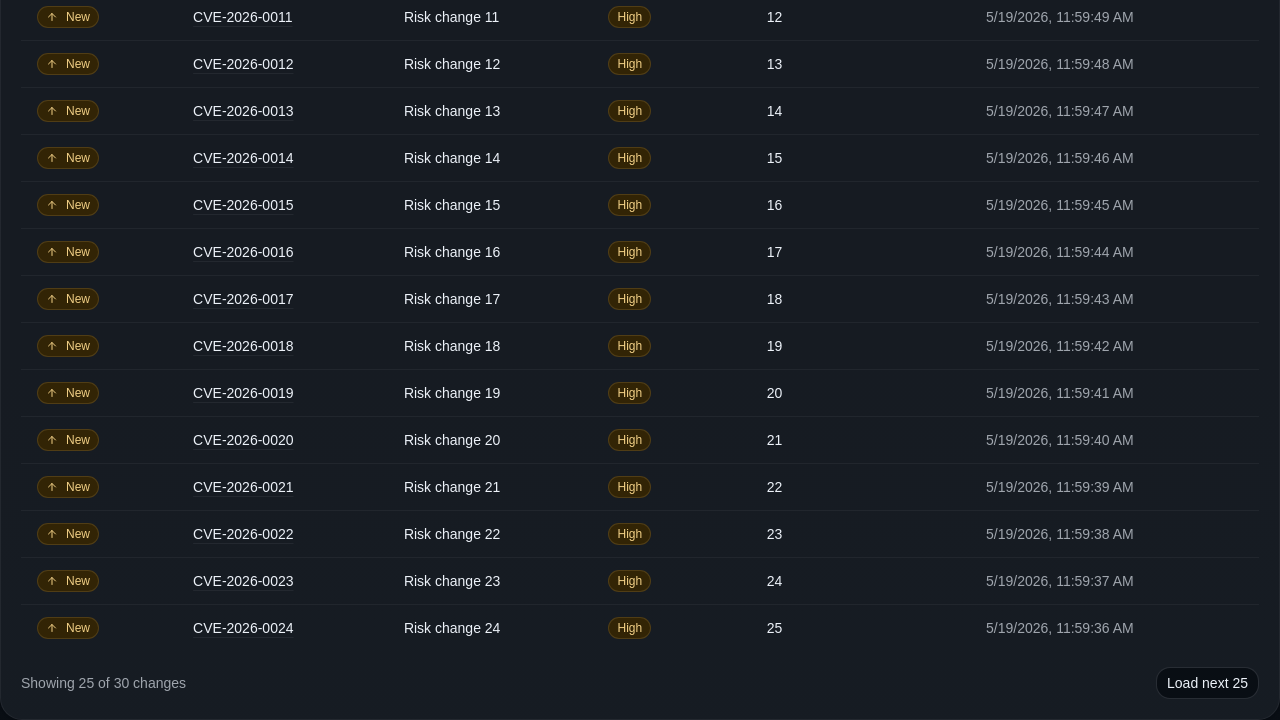
Scenario: RiskChangeWorkbench › loads additional risk changes when the filtered result set is larger than one page
(page scrolled)
Check: the text "CVE-2026-0029" is not shown
Check: the text "Showing 25 of 30 changes" is shown, box 21,673 -> 186,693
Click the button "Load next 25" at x=1208, y=683, box 1156,667 -> 1259,699
(page scrolled)
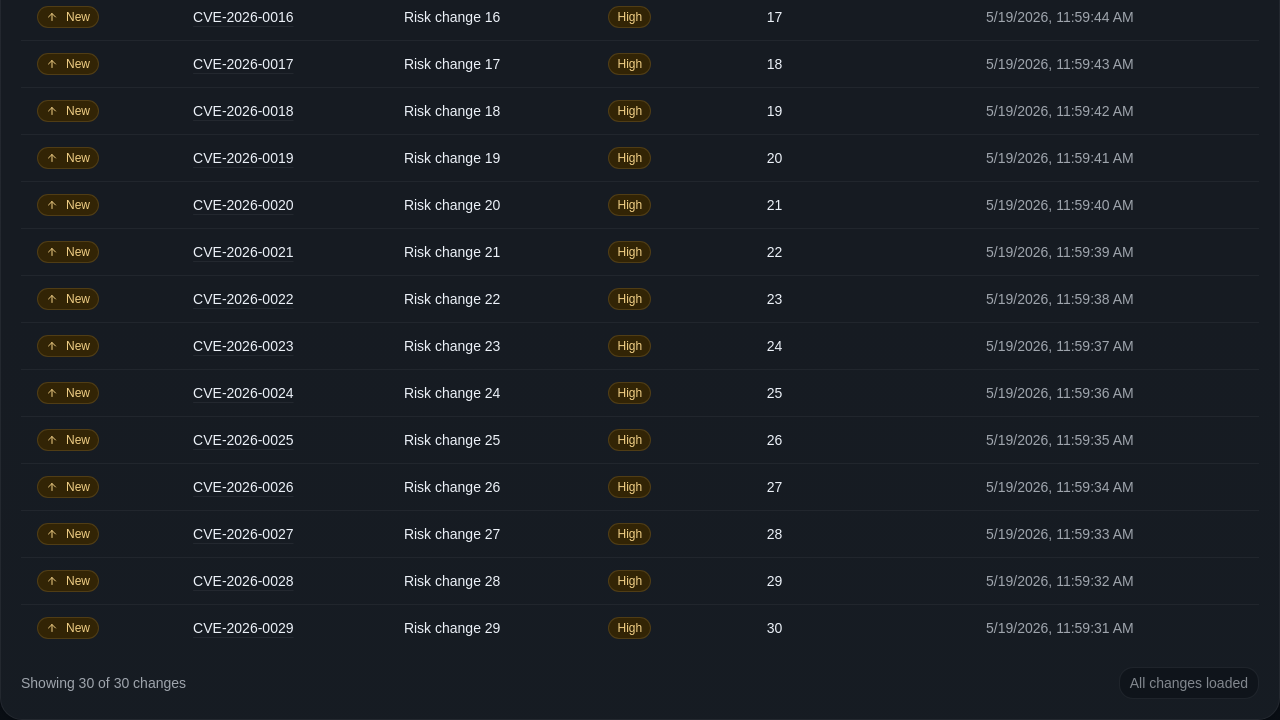
Check: the link "CVE-2026-0029" is shown, box 193,620 -> 294,636
Check: the text "Showing 30 of 30 changes" is shown, box 21,673 -> 186,693
